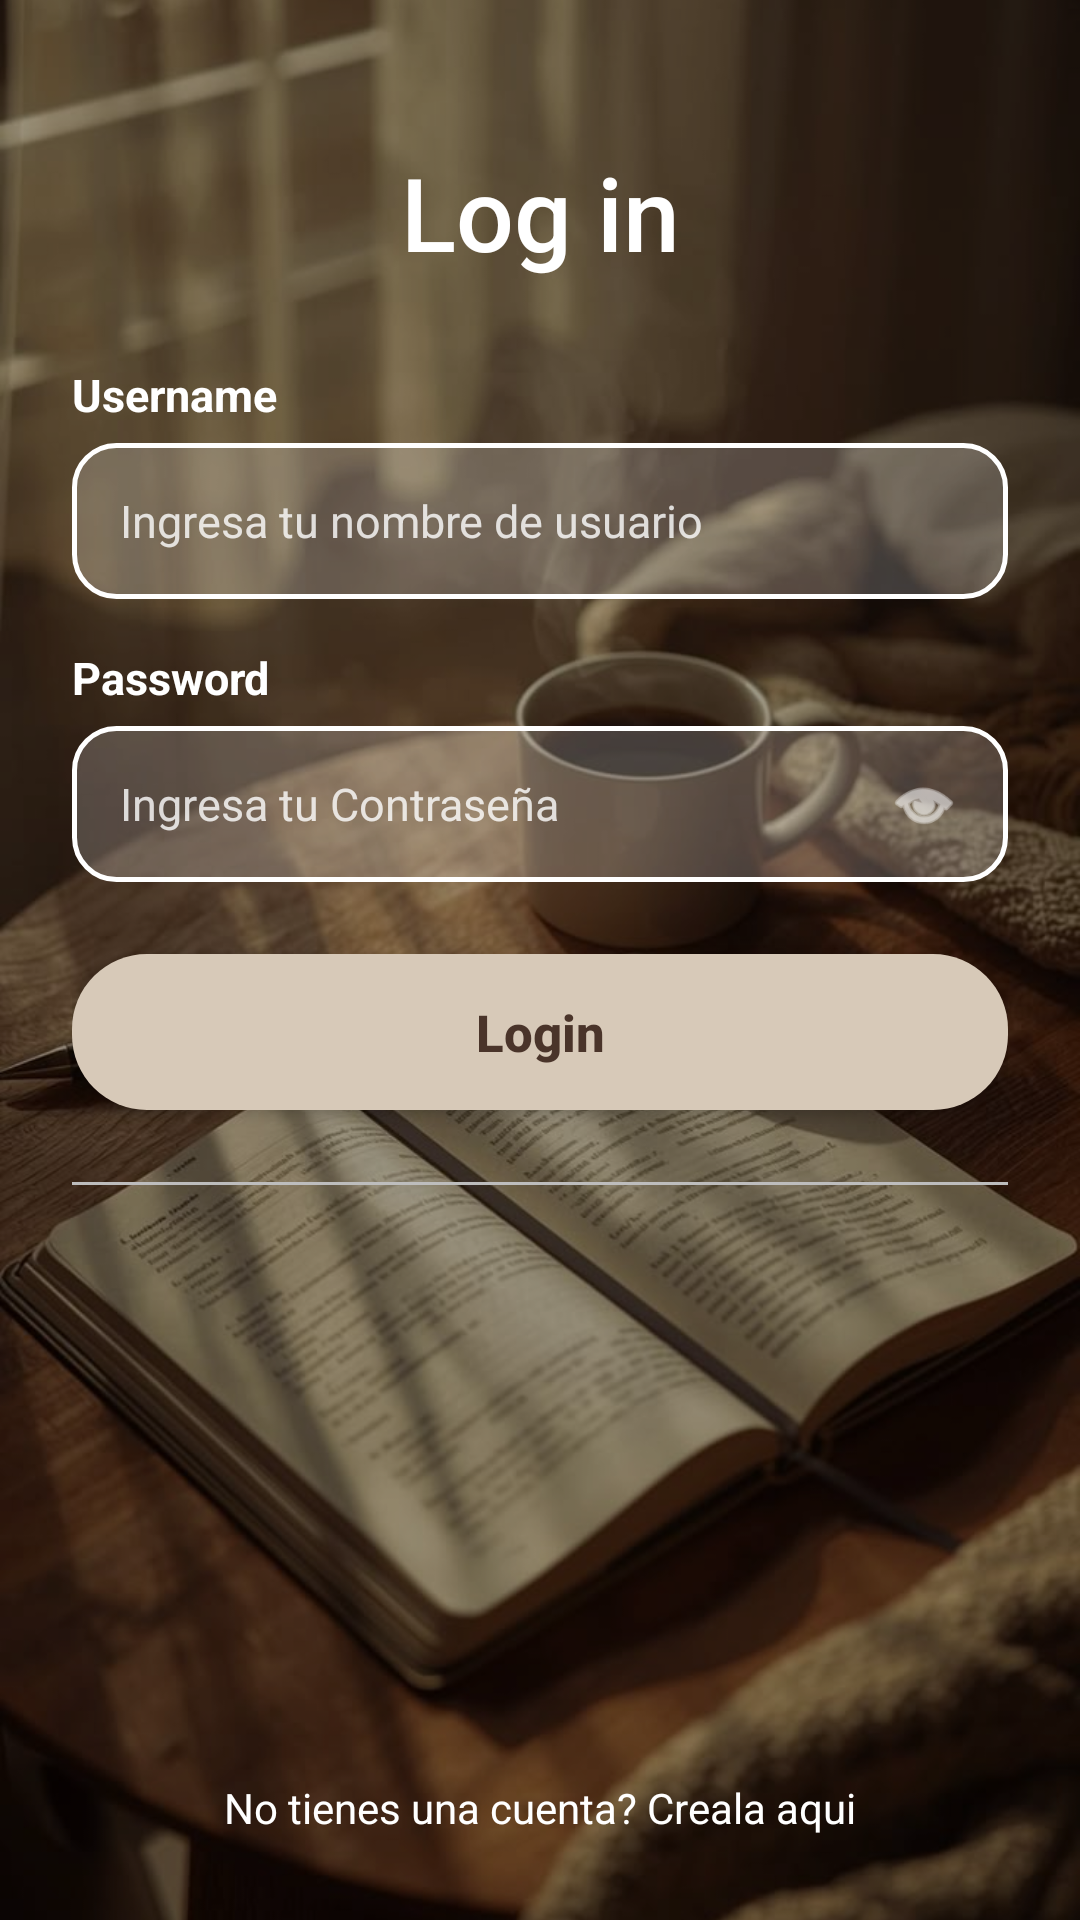

Icon bounding boxes for this 1080×1920 phone screenshot, format BBox(x1, y1, x2, y2):
view: BBox(888, 787, 960, 840)
